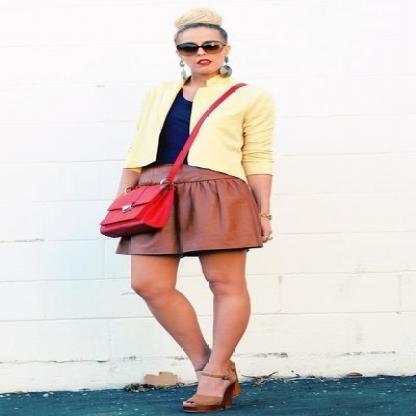bag: (100, 92, 233, 240)
jacket: (126, 75, 274, 181)
shirt: (142, 92, 192, 169)
shoe: (182, 358, 240, 415)
skirt: (116, 155, 272, 262)
sunglass: (176, 42, 218, 58)
